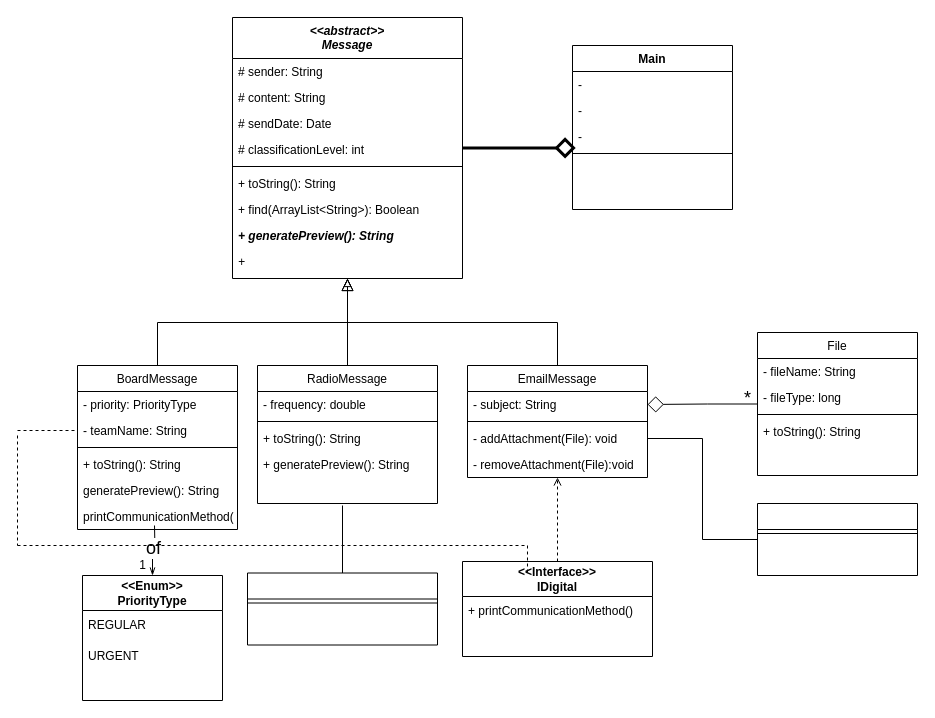
This 935x718 diagram has some shape labels left out. The centre of each missing label's shape, as x and y in pixels:
"AttachmentException" goes at pixel 837 539.
"FrequencyOutOfRangeException" goes at pixel 342 608.
